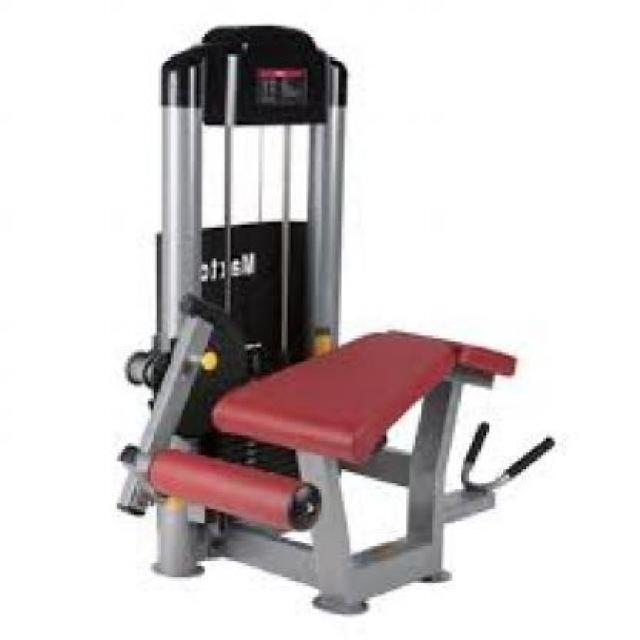reg curl machine: (112, 23, 558, 619)
